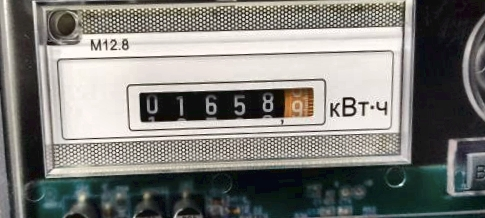0: (144, 92, 158, 115)
1: (174, 94, 185, 116)
5: (231, 92, 246, 116)
6: (202, 92, 217, 115)
8: (259, 90, 274, 112)
9: (288, 98, 303, 119)
screen: (120, 69, 334, 139)
